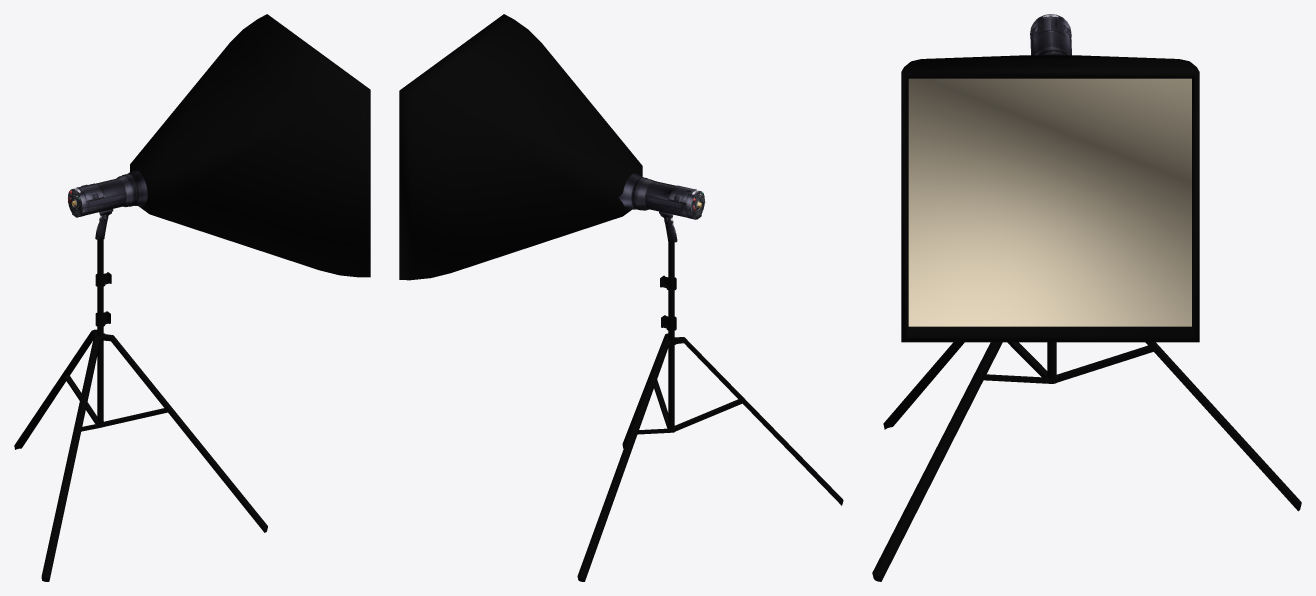
File: flashes.glb
3 renders of one model, left to right at view 1: azimuth 30°, elevation 25°; view 2: azimuth 150°, elevation 25°; view 3: azimuth 270°, elevation 25°, orthographic. The views are drawn at different scales.
Visible parts, largest first — view 1: Cube, Cylinder.001, Cylinder; view 2: Cube, Cylinder.001, Cylinder; view 3: Cube, Cylinder.001, Cylinder.
Part boxes in pixels (left/top/right/bottom): Cube: left=130, top=14, right=370, bottom=277; Cylinder.001: left=14, top=236, right=267, bottom=581; Cylinder: left=68, top=170, right=147, bottom=239; Cube: left=399, top=14, right=642, bottom=280; Cylinder.001: left=577, top=238, right=843, bottom=581; Cylinder: left=618, top=173, right=705, bottom=242; Cube: left=901, top=55, right=1199, bottom=342; Cylinder.001: left=872, top=342, right=1301, bottom=581; Cylinder: left=1030, top=14, right=1071, bottom=55.
Size of the model in its own units: 27.51 by 32.28 by 21.36.
4 materials, 2 textured.
